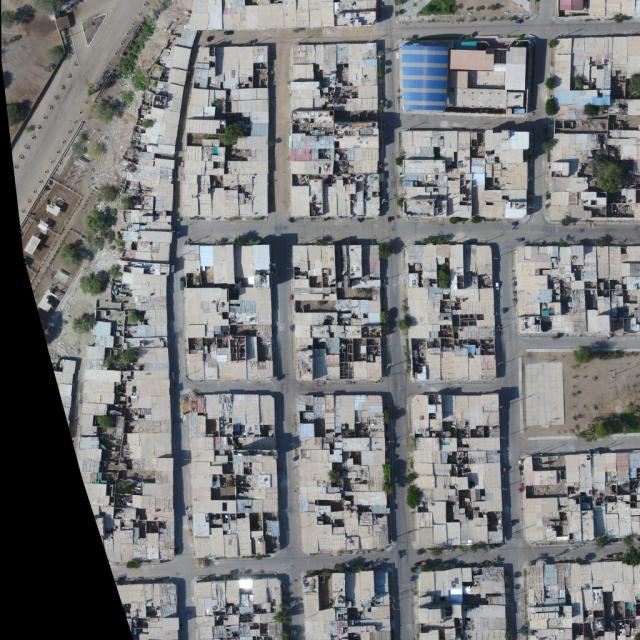building: (70, 23, 197, 567), (288, 42, 381, 218), (184, 393, 279, 560), (294, 392, 391, 555), (180, 44, 270, 219), (409, 393, 504, 550), (180, 244, 273, 382), (291, 244, 383, 383), (405, 243, 497, 382), (400, 128, 531, 219), (522, 452, 640, 545), (303, 573, 391, 640), (191, 0, 377, 29), (400, 44, 449, 110), (48, 358, 76, 419), (455, 87, 508, 108), (506, 46, 528, 90), (451, 50, 495, 70), (470, 71, 506, 87), (451, 70, 469, 87), (495, 47, 508, 63), (495, 63, 507, 71)
dryland: (522, 347, 640, 438)
metalled_road: (502, 418, 640, 640), (295, 376, 387, 402), (414, 546, 505, 571), (539, 0, 559, 20)
unmetalled_road: (193, 25, 380, 218)
